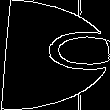O_W: (3, 32, 107, 78)
